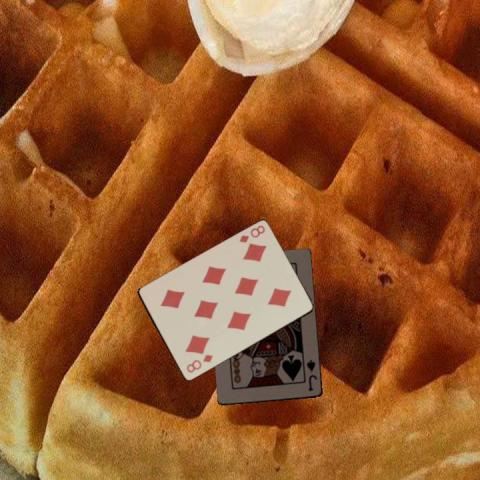8d: (183, 352, 214, 375), (236, 222, 267, 244)
Js: (304, 356, 319, 392)
